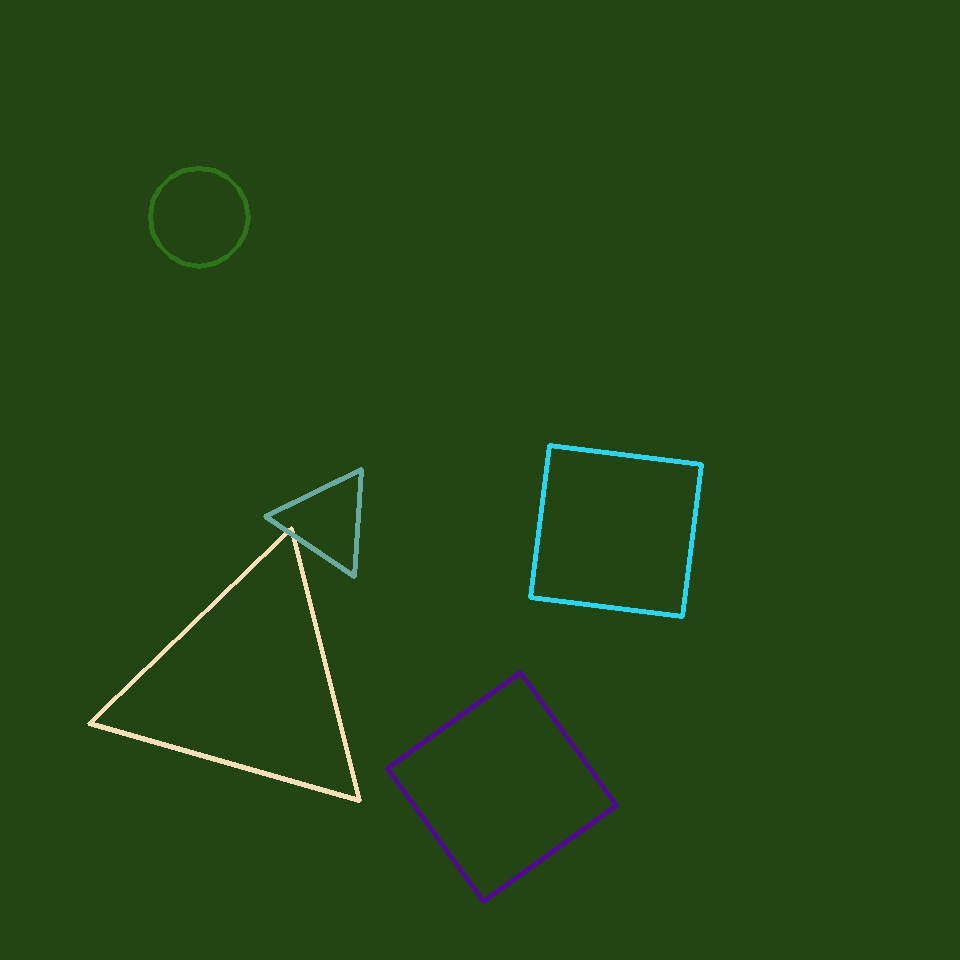circle: (112, 548, 382, 820), (279, 468, 375, 575)
square: (388, 672, 616, 902), (530, 446, 702, 616)
triangle: (150, 168, 248, 266)
